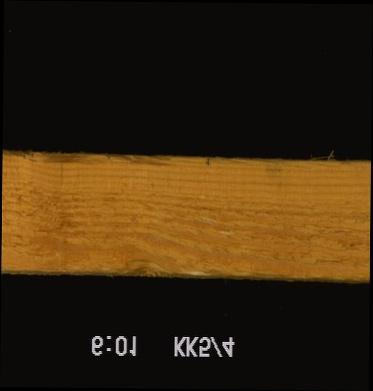edge_knot: (111, 254, 171, 276)
wave: (21, 153, 172, 178), (212, 157, 370, 172)
